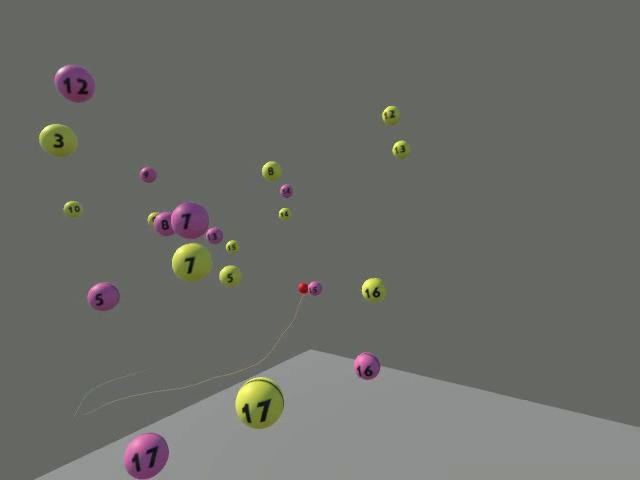ball_03_yellow: (38, 123, 76, 157)
ball_05_pink: (86, 281, 118, 311)
ball_05_yellow: (219, 265, 240, 286)
ball_07_pink: (171, 201, 208, 239)
ball_07_yellow: (171, 242, 211, 281)
ball_08_pink: (153, 212, 174, 236)
ball_08_yellow: (261, 160, 281, 181)
ball_09_pink: (139, 166, 156, 182)
ball_10_yellow: (63, 200, 82, 219)
ball_12_pink: (54, 64, 94, 103)
ball_12_yellow: (381, 105, 401, 126)
ball_13_pink: (206, 227, 223, 244)
ball_13_yellow: (392, 140, 410, 158)
ball_14_pink: (279, 183, 292, 197)
ball_14_yellow: (278, 207, 291, 220)
ball_15_pink: (307, 280, 322, 296)
ball_15_yellow: (225, 240, 238, 253)
ball_16_pink: (354, 351, 380, 379)
ball_16_yellow: (361, 277, 386, 302)
ball_17_pink: (123, 432, 168, 478)
ball_17_yellow: (234, 377, 285, 429)
ball_unknown: (148, 211, 157, 224)
user_cursor: (297, 281, 308, 293)
